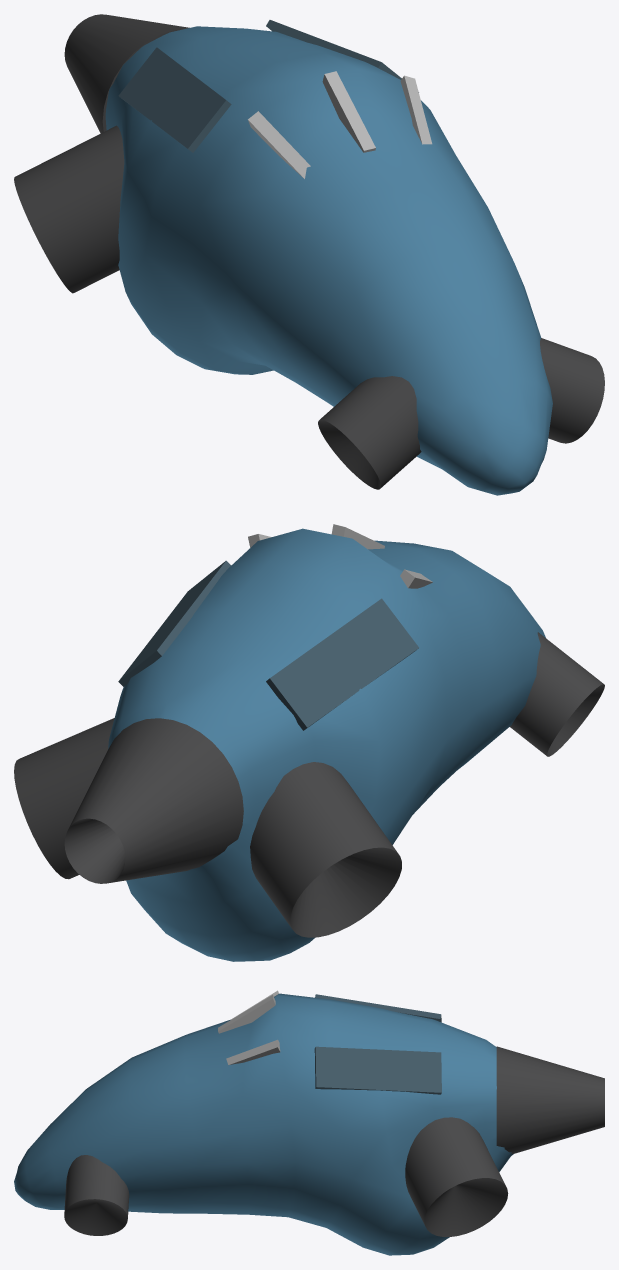
File: Police car 1.fbx
3 views of the same model, one above another, from view 1: azimuth 30°, elevation 25°; view 2: azimuth 150°, elevation 25°; view 3: azimuth 270°, elevation 25° (orthographic). The views are drawn at different scales.
Visible parts, largest first — view 1: PolyMesh3D_371; view 2: PolyMesh3D_371; view 3: PolyMesh3D_371.
Part boxes in pixels (x1,y1,x2,y2): PolyMesh3D_371: (14, 14, 604, 495); PolyMesh3D_371: (14, 524, 604, 961); PolyMesh3D_371: (14, 990, 604, 1255).
Size of the model in its own units: 276 by 257 by 553.
